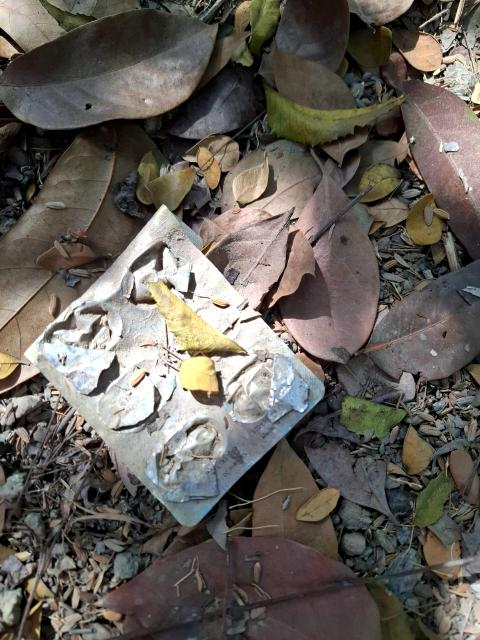medicine: (18, 209, 340, 538)
